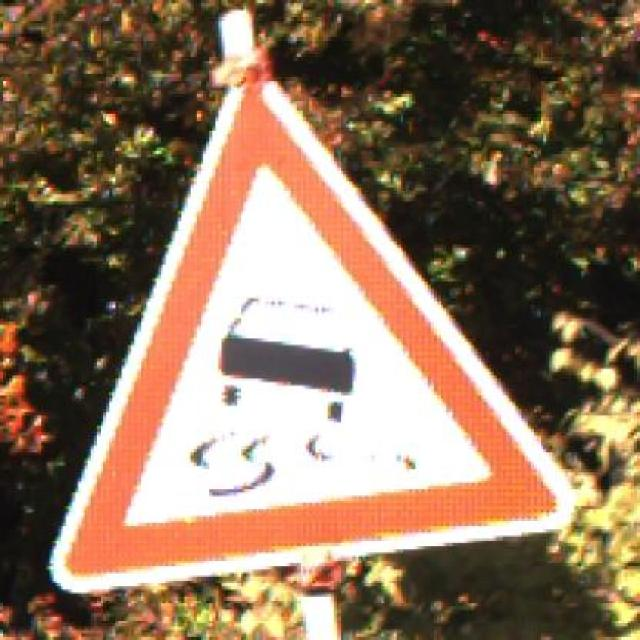Slippery Road Ahead: (47, 70, 584, 593)
